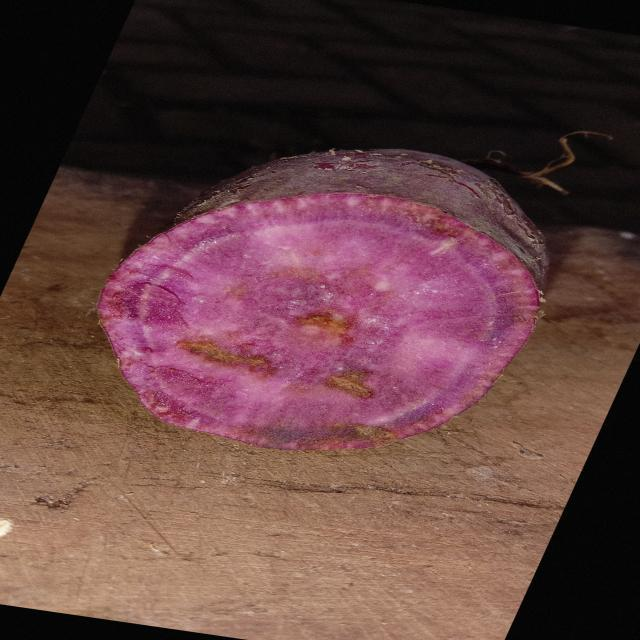Sick Sweet Potato_Tuber Rot: (100, 194, 538, 450)
